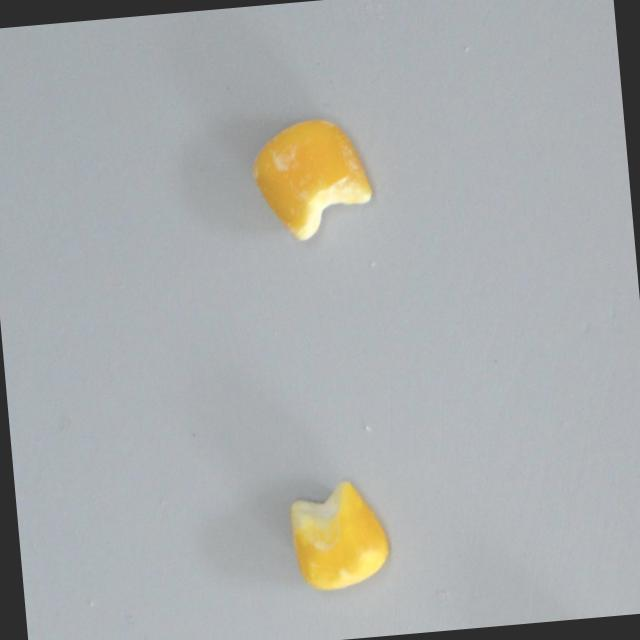pelicula: (243, 106, 378, 248)
